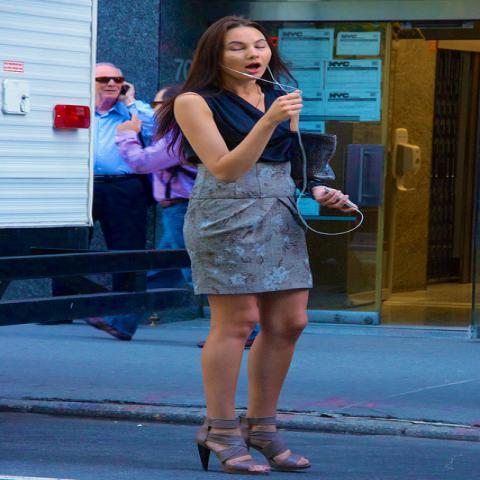truck: (1, 0, 100, 258)
